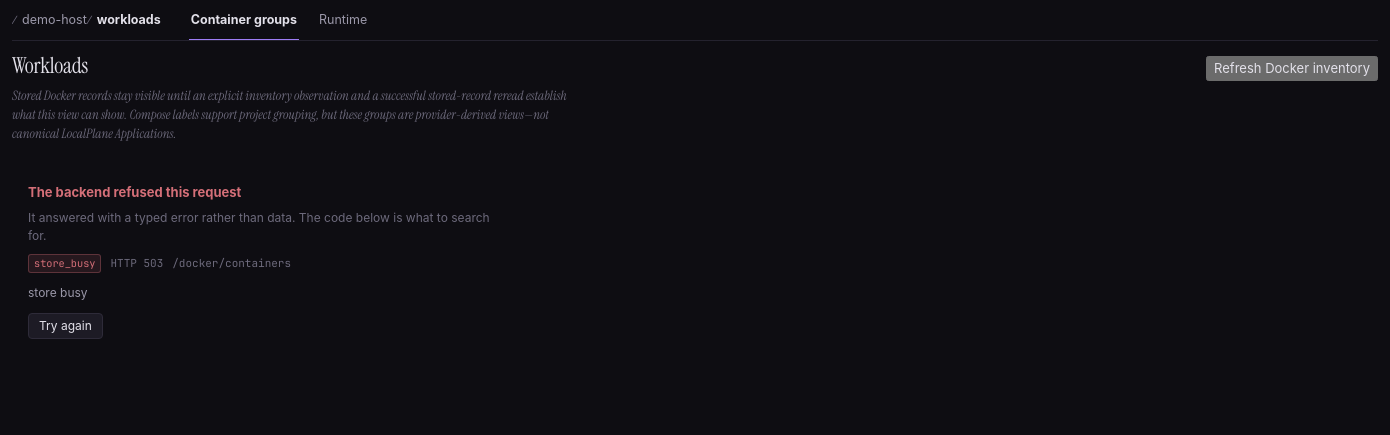
Test: explicit Docker inventory refresh › settles an acknowledged cold reread failure through the ResourceView GET retry
This screenshot has width=1390, height=435.
Expected: the text "The backend refused this request" is shown, [28, 183, 241, 202]
What coordinates should you click on to do the following:
click the button "Refresh Docker inventory"
I would click on:
 (1292, 68)
Its box is [1206, 56, 1378, 81].
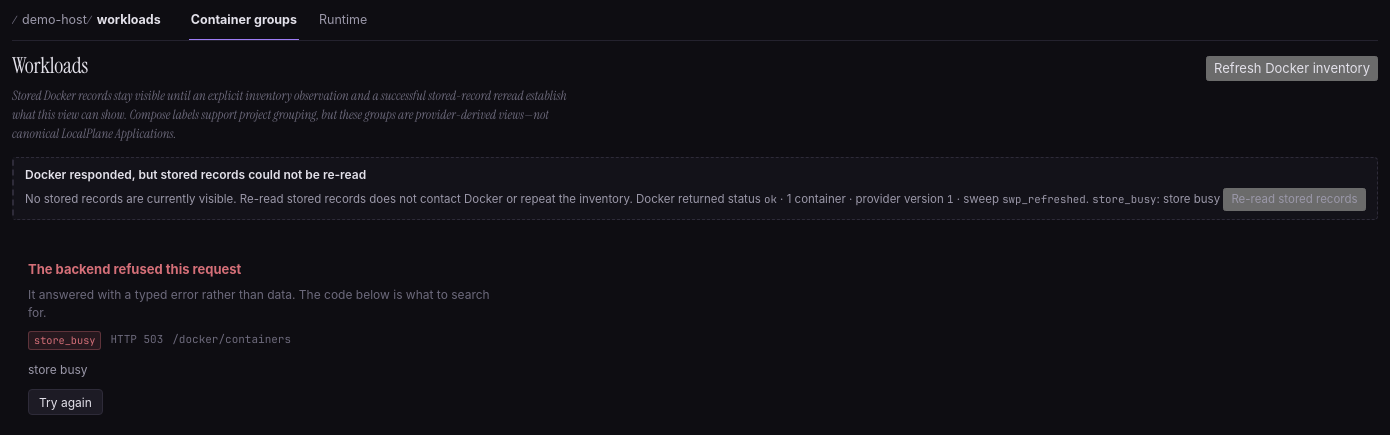
Result: the text "Docker responded, but stored records could not be re-read" is shown at [25, 167, 366, 182]
What coordinates should you click on to do the following:
click the button "Try again"
I would click on:
 (65, 402)
Its box is [28, 389, 103, 415].
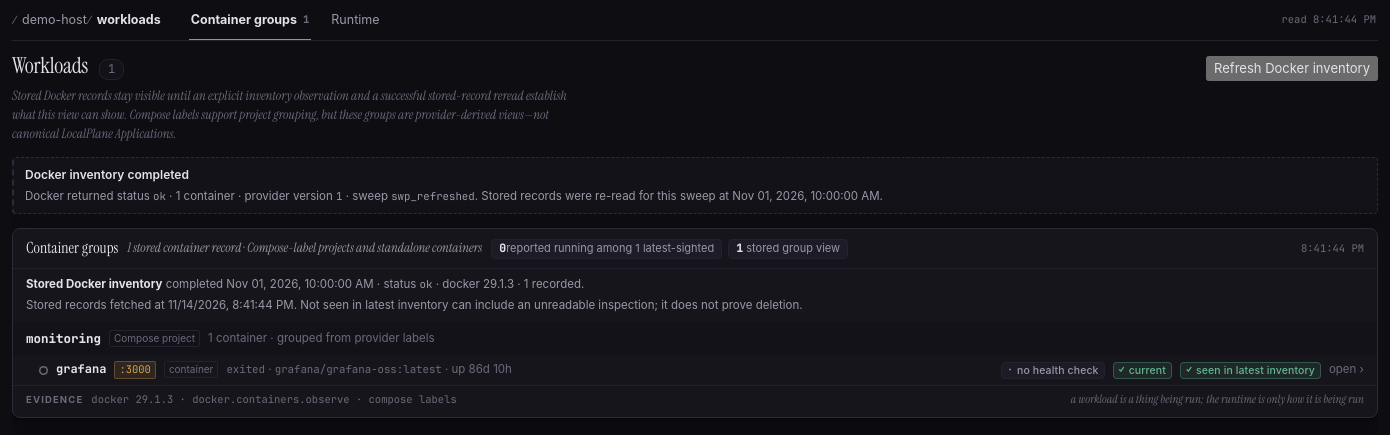
Result: the text "Docker inventory completed" is shown at [25, 167, 189, 182]
Result: the text "Docker responded, but stored records could not be re-read" is gone
Result: the text "grafana" is shown at [56, 362, 106, 379]
